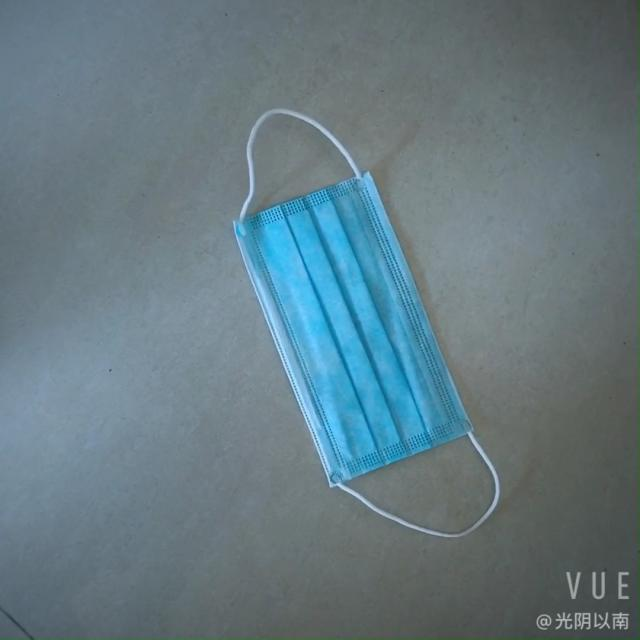face mask: (253, 162, 460, 492)
